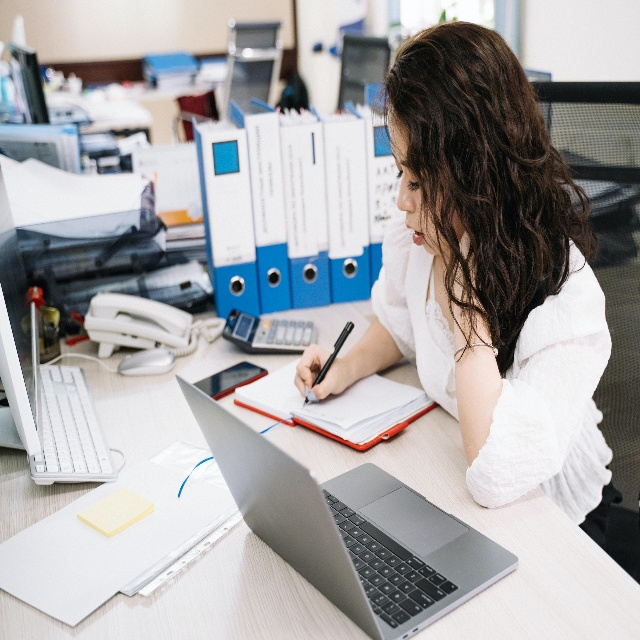Sin_guantes: (294, 342, 348, 403)
